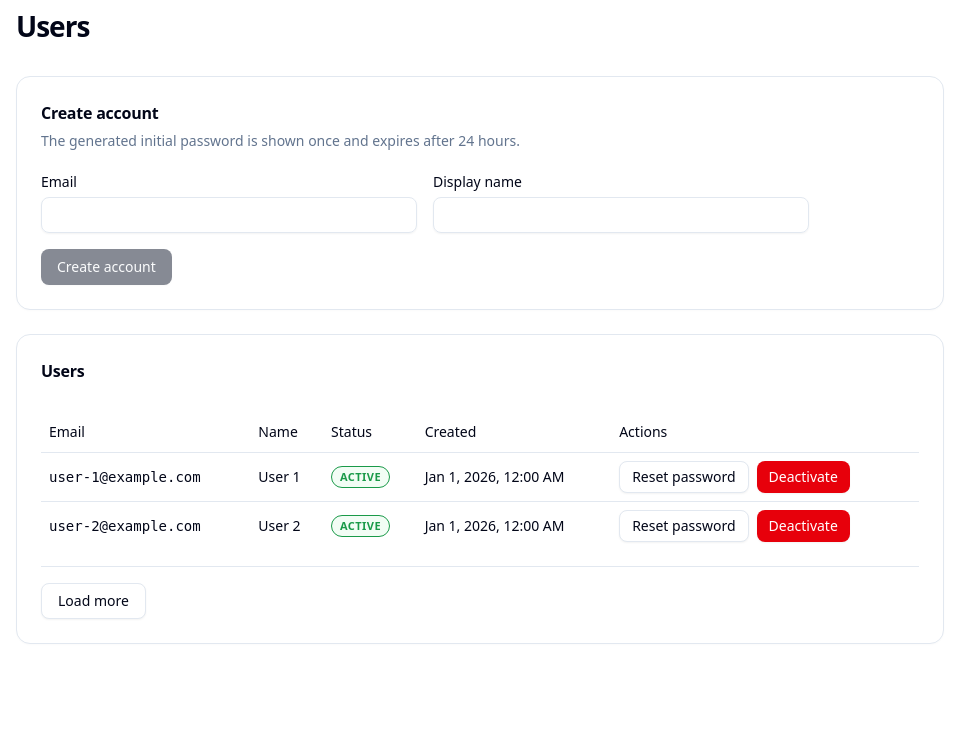
Test: UsersPage (CAP-044 Slice 3 / AC 19) › an INVALID_CURSOR load-more offers Start over, which resets the page chain
expect the number of rows with test id "admin-user-row" is 2: met, box [41, 453, 919, 502]; [41, 502, 919, 550]
Click the button with test id "admin-users-load-more". click: (93, 601)
box: [41, 583, 146, 619]
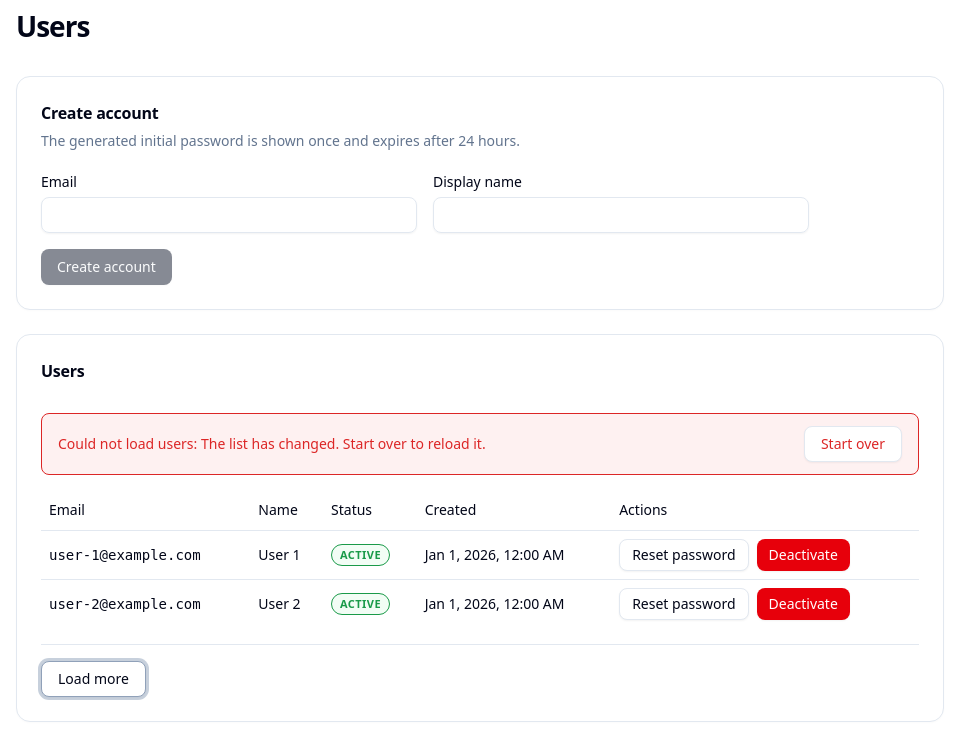
expect the number of rows with test id "admin-user-row" is 2: met, box [41, 531, 919, 580]; [41, 580, 919, 628]
expect the message with test id "users-error-banner" is shown: met, box [41, 413, 919, 475]
expect the button with test id "users-start-over" is shown: met
// resetQueries drops the broken chain and refetches page 1.
Click the button with test id "users-start-over". click: (853, 444)
box: [804, 426, 902, 462]
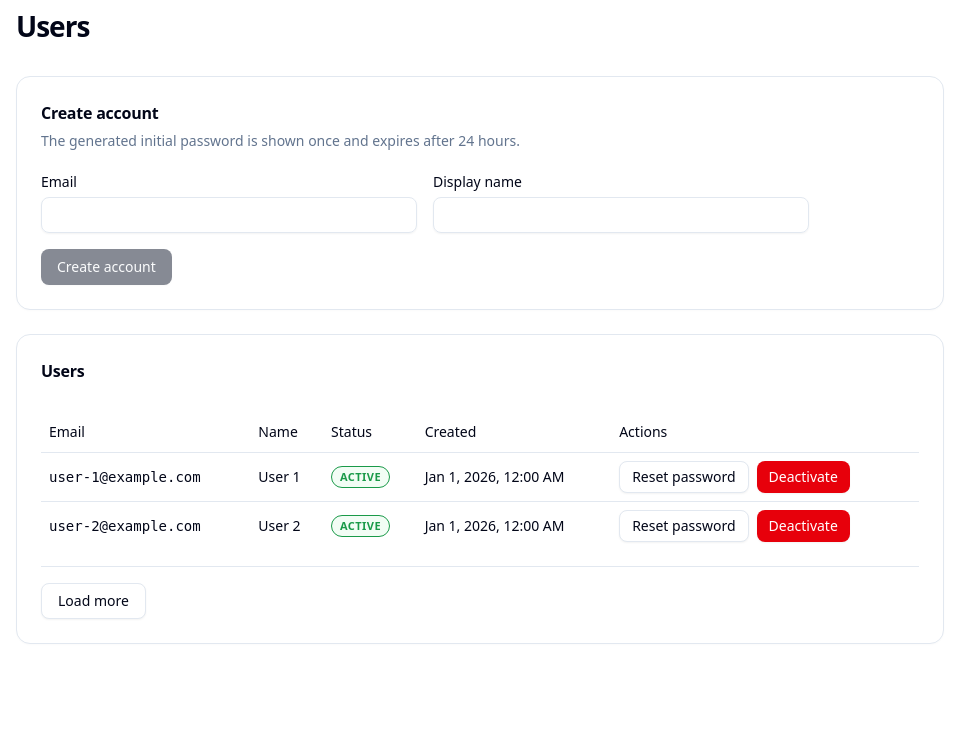
expect the number of rows with test id "admin-user-row" is 2: met, box [41, 453, 919, 502]; [41, 502, 919, 550]
expect the message with test id "users-error-banner" is gone: met
